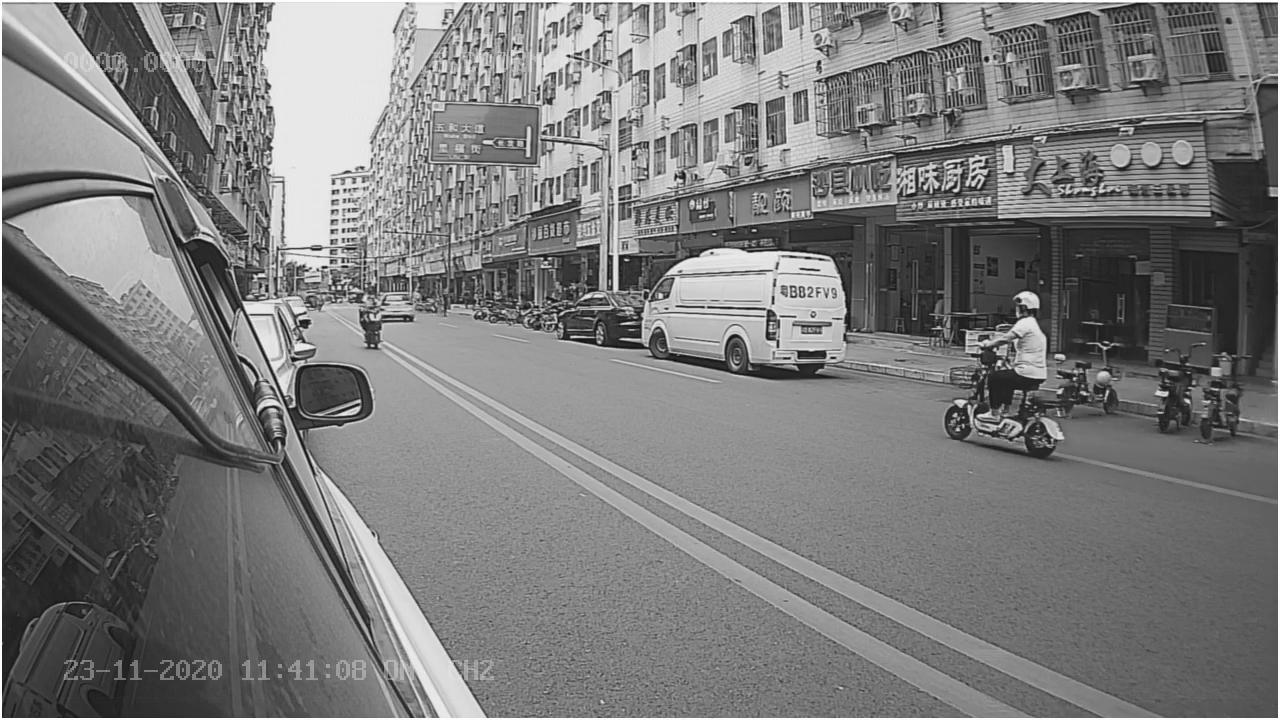person: (998, 288, 1059, 384)
